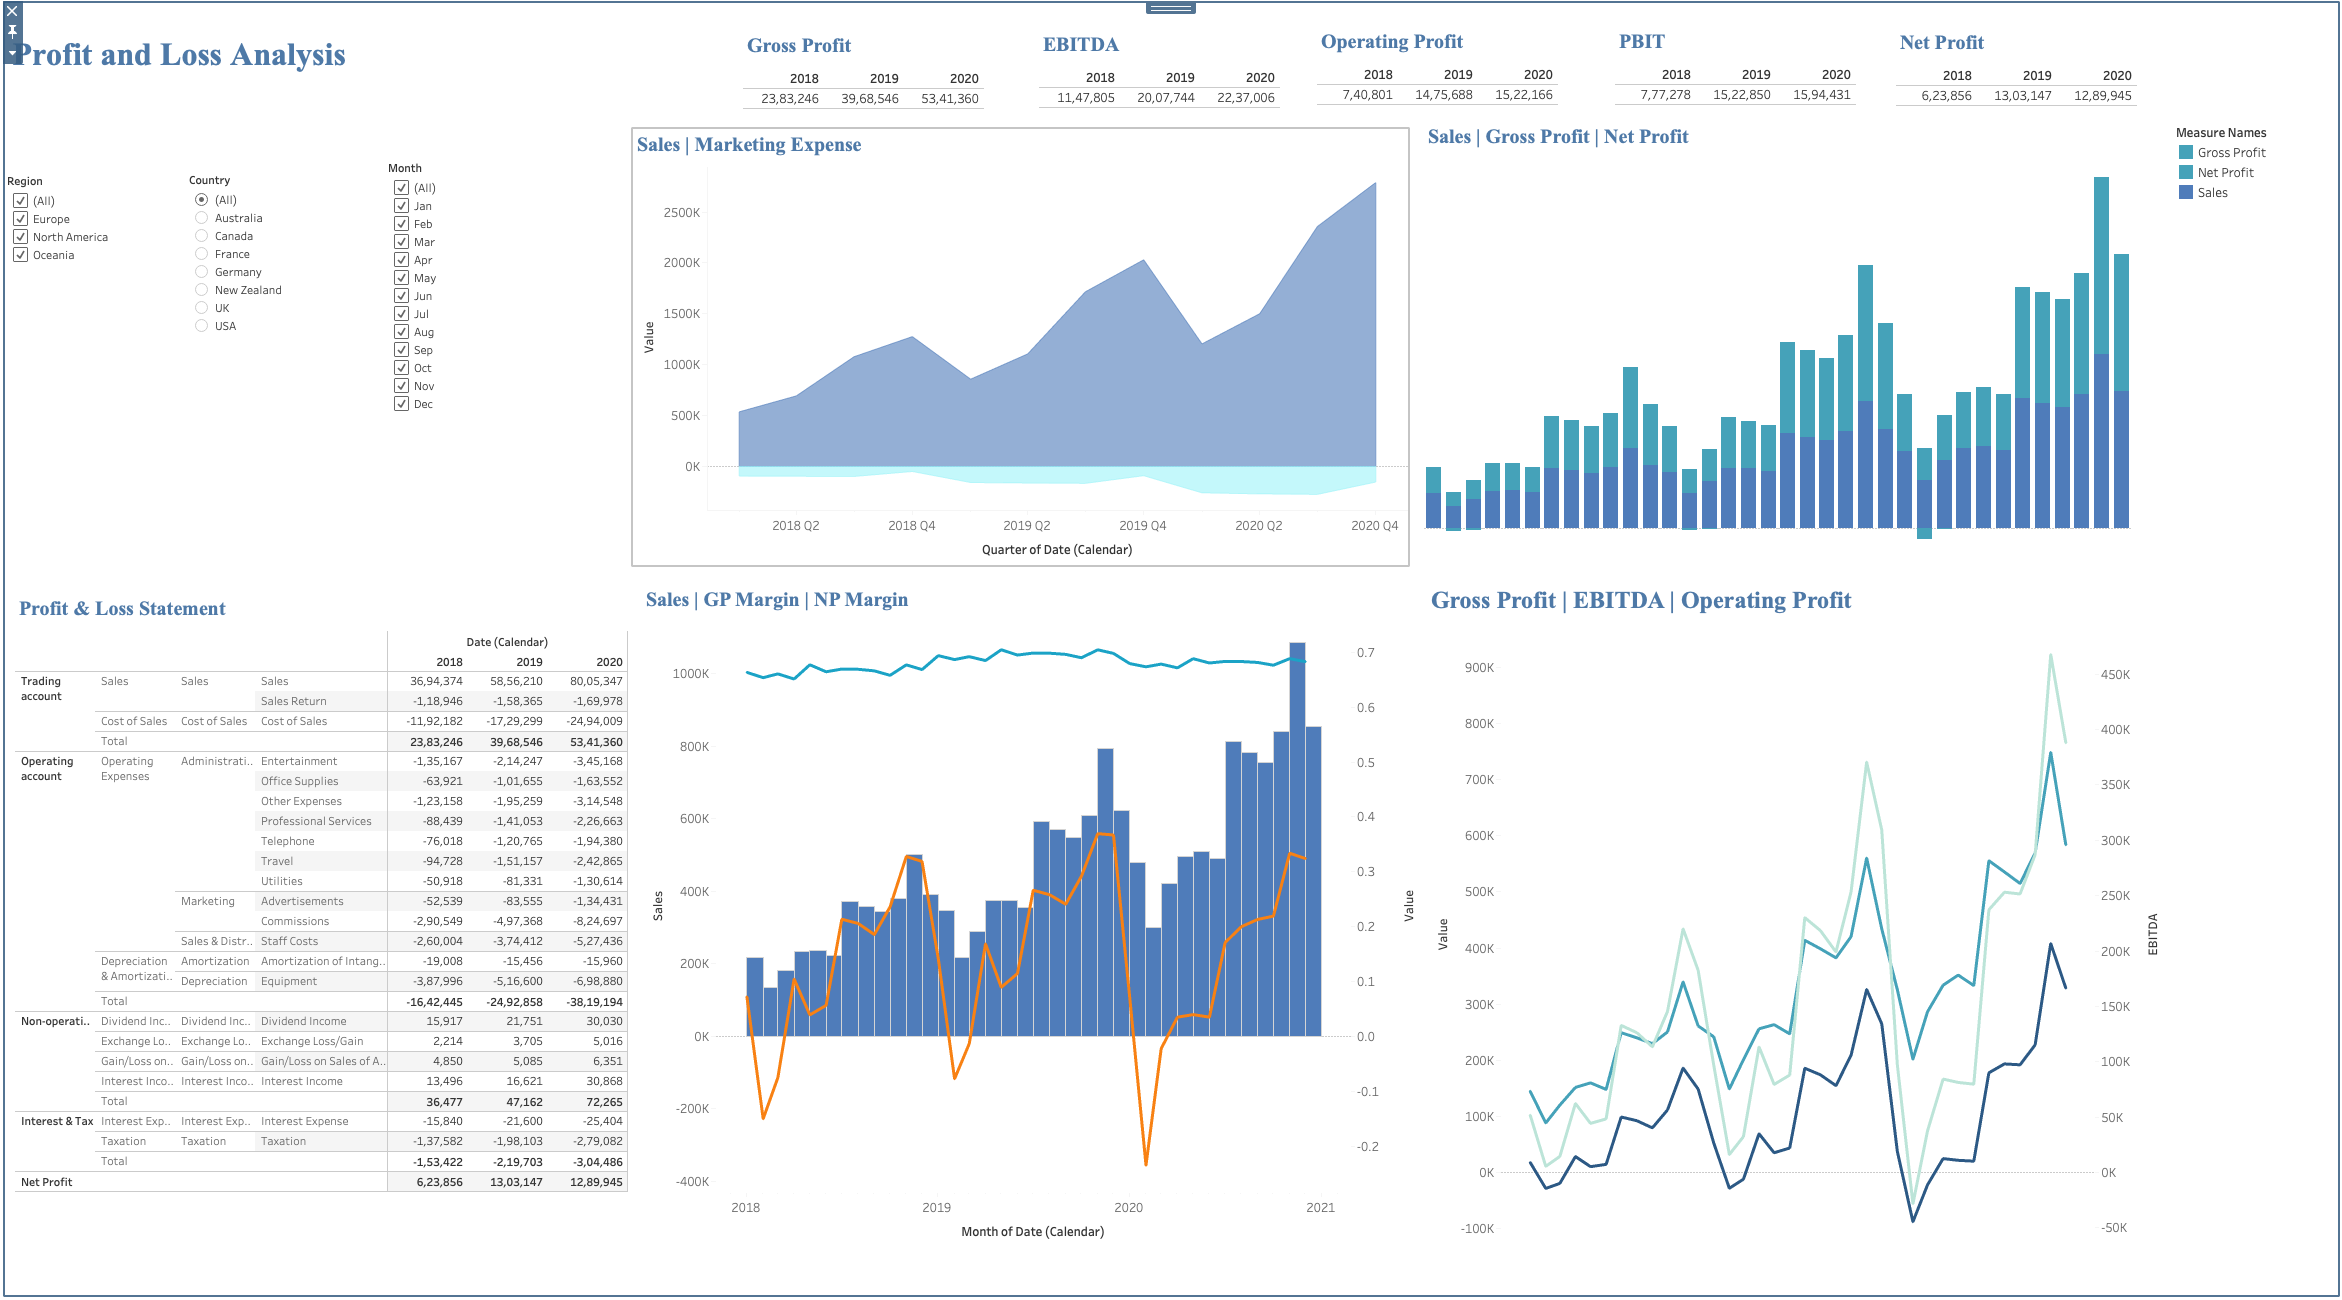

This screenshot's page, from the dashboard's own definition file:
{"tool":"tableau","page":{"name":"Turtle co dashboard","canvas":[1000,1000],"units":"permille","ordinal":0},"visuals":[{"type":"title","box":[5.6,13.6,254.7,63.8]},{"type":"worksheet","title":"OP","mark":"Automatic","cols":["Date (Calendar)"],"box":[561.9,23.7,125.2,65.8]},{"type":"worksheet","title":"PBIT","mark":"Automatic","cols":["Date (Calendar)"],"box":[688.8,23.7,115.4,61.2]},{"type":"worksheet","title":"NP","mark":"Automatic","cols":["Date (Calendar)"],"box":[808.4,24.5,120,61.9]},{"type":"worksheet","title":"EBITDA","mark":"Automatic","cols":["Date (Calendar)"],"box":[443.6,26,111.1,68]},{"type":"worksheet","title":"GP","mark":"Automatic","cols":["Date (Calendar)"],"box":[317.6,26.8,122.6,68.8]},{"type":"worksheet","title":"Sales, GP,NP","mark":"Bar","cols":["Date (Calendar)","Date (Calendar)","Date (Calendar)"],"box":[607.5,96.3,301,333.3]},{"type":"legend","title":"Sales, GP,NP","param":"[federated.017usz10yo20ma1e69r2y18tpgpw].[:Measure Names]","box":[927.6,98.6,59.6,59.6]},{"type":"worksheet","title":"Sales and Marketing Expense","mark":"Area","cols":["Date (Calendar)"],"box":[270.8,102.5,329.9,333.3]},{"type":"filter","title":"P&L","param":"[federated.017usz10yo20ma1e69r2y18tpgpw].[none:Month:nk]","box":[166.4,126,68.1,196.2]},{"type":"filter","title":"P&L","param":"[federated.017usz10yo20ma1e69r2y18tpgpw].[none:Country:nk]","box":[81.9,135.6,71.5,133.2]},{"type":"filter","title":"P&L","param":"[federated.017usz10yo20ma1e69r2y18tpgpw].[none:Region:nk]","box":[4.3,136.4,68.1,91.7]},{"type":"worksheet","title":"EBITDA,GP,OP","mark":"Automatic","rows":["Calculation_533184032898580480"],"cols":["Date (Calendar)"],"box":[608.8,449.5,315.4,506.9]},{"type":"worksheet","title":"Sales, np,gp margin","mark":"Automatic","rows":["Calculation_492581267487010816"],"cols":["Date (Calendar)"],"box":[274.6,450.6,332.8,507.2]},{"type":"worksheet","title":"P&L","mark":"Automatic","rows":["Class","SubClass","SubClass2","Account"],"cols":["Date (Calendar)"],"box":[7.8,456.9,266.4,508.8]}]}

Visuals, with their boxes on the dashboard's canvas, which has no fixed pixel size, in thousandths of its width and height (x1, y1, x2, y2). These are canvas units, not pixel positions in the 2342x1300 screenshot, which may show the page scaled, cropped or inside an application window:
title: locate(6, 14, 260, 77)
"OP" worksheet: locate(562, 24, 687, 90)
"PBIT" worksheet: locate(689, 24, 804, 85)
"NP" worksheet: locate(808, 24, 928, 86)
"EBITDA" worksheet: locate(444, 26, 555, 94)
"GP" worksheet: locate(318, 27, 440, 96)
"Sales, GP,NP" worksheet (Bar marks): locate(608, 96, 908, 430)
"Sales, GP,NP" legend: locate(928, 99, 987, 158)
"Sales and Marketing Expense" worksheet (Area marks): locate(271, 102, 601, 436)
"P&L" filter: locate(166, 126, 234, 322)
"P&L" filter: locate(82, 136, 153, 269)
"P&L" filter: locate(4, 136, 72, 228)
"EBITDA,GP,OP" worksheet: locate(609, 450, 924, 956)
"Sales, np,gp margin" worksheet: locate(275, 451, 607, 958)
"P&L" worksheet: locate(8, 457, 274, 966)
